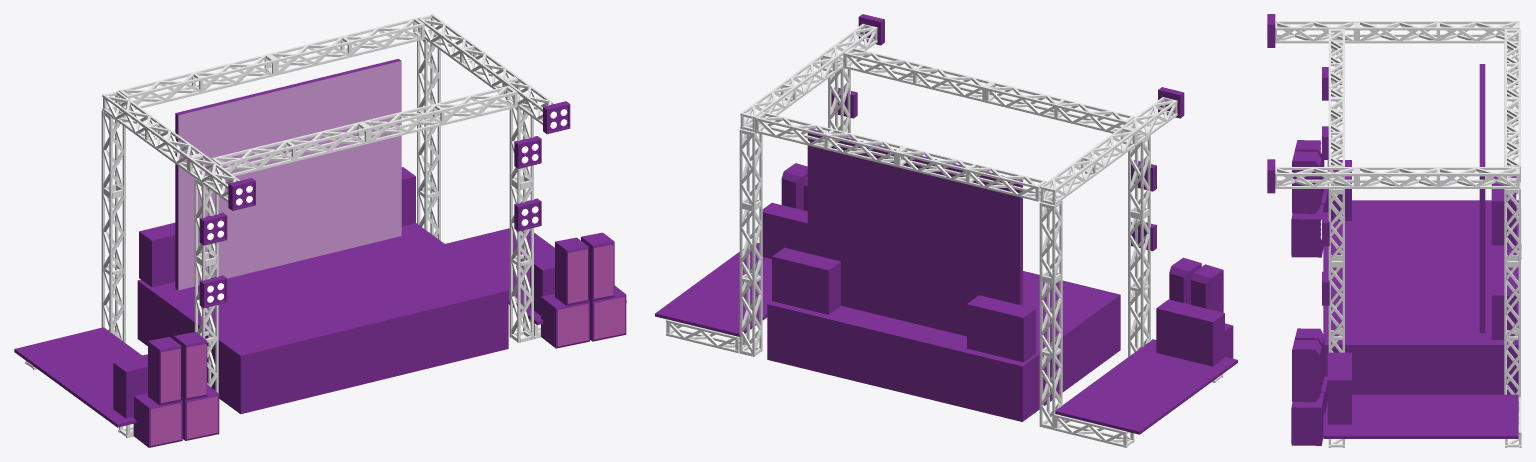
File: stage.glb
3 renders of one model, left to right at view 1: azimuth 30°, elevation 25°; view 2: azimuth 150°, elevation 25°; view 3: azimuth 270°, elevation 25°, orthographic. The views are drawn at different scales.
Parts seen in each view (by area): view 1: STAGEmodul, Philips_PM5544_(SECAM_variation), Cube.004, Cube.000, STAGEmodul.003, Cube.003, Cube.001, Cube.012, Cube.015, Cube.014, Cube.013, Cube.005 (+14 smaller); view 2: Philips_PM5544_(SECAM_variation), STAGEmodul, STAGEmodul.003, Cube.004, Cube.000, Cube.005, STAGEmodul.002, Cube.003, Cube.002, Hardcase.002, Hardcase.003, Hardcase.000 (+8 smaller); view 3: STAGEmodul, STAGEmodul.002, Cube.007, Cube.006, STAGEmodul.003, Cube.005, Cube.012, Cube.004, Cube.000, Cube.001, Hardcase.001, Philips_PM5544_(SECAM_variation) (+15 smaller).
Part boxes in pixels (bbox=[...]): STAGEmodul: bbox=[137, 223, 508, 414]; Philips_PM5544_(SECAM_variation): bbox=[175, 58, 401, 290]; Cube.004: bbox=[118, 18, 424, 110]; Cube.000: bbox=[211, 85, 517, 178]; STAGEmodul.003: bbox=[14, 327, 141, 427]; Cube.003: bbox=[101, 108, 125, 343]; Cube.001: bbox=[509, 98, 533, 342]; Cube.012: bbox=[555, 232, 614, 306]; Cube.015: bbox=[148, 332, 207, 405]; Cube.014: bbox=[133, 385, 219, 447]; Cube.013: bbox=[541, 285, 626, 348]; Cube.005: bbox=[417, 32, 440, 240]; Philips_PM5544_(SECAM_variation): bbox=[807, 129, 1022, 336]; STAGEmodul: bbox=[767, 271, 1120, 421]; STAGEmodul.003: bbox=[1055, 339, 1237, 434]; Cube.004: bbox=[755, 112, 1046, 201]; Cube.000: bbox=[843, 47, 1134, 133]; Cube.005: bbox=[739, 126, 762, 356]; STAGEmodul.002: bbox=[655, 242, 771, 336]; Cube.003: bbox=[1039, 199, 1062, 430]; Cube.002: bbox=[1128, 132, 1150, 356]; Hardcase.002: bbox=[967, 295, 1035, 362]; Hardcase.003: bbox=[772, 247, 840, 314]; Hardcase.000: bbox=[1156, 299, 1224, 366]; STAGEmodul: bbox=[1323, 221, 1518, 394]; STAGEmodul.002: bbox=[1323, 394, 1518, 438]; Cube.007: bbox=[1275, 167, 1519, 188]; Cube.006: bbox=[1275, 21, 1519, 43]; STAGEmodul.003: bbox=[1352, 200, 1518, 220]; Cube.005: bbox=[1504, 182, 1520, 412]; Cube.012: bbox=[1292, 328, 1324, 402]; Cube.004: bbox=[1504, 29, 1520, 181]; Cube.000: bbox=[1328, 29, 1344, 179]; Cube.001: bbox=[1328, 183, 1344, 352]; Hardcase.001: bbox=[1327, 352, 1351, 424]; Philips_PM5544_(SECAM_variation): bbox=[1479, 64, 1485, 333].
Size of the model in its own units: 13.68 by 6.64 by 6.27.
